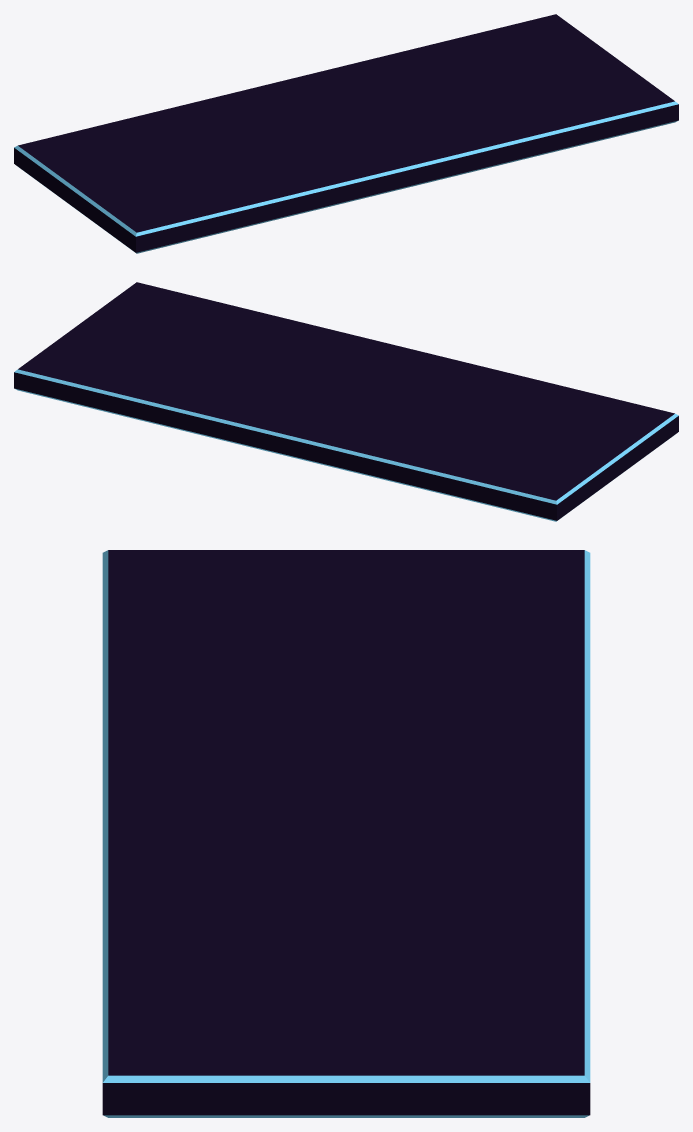
Rendered from Shipping Container_Platform.fbx.
3 renders of one model, top to bottom at view 1: azimuth 30°, elevation 25°; view 2: azimuth 150°, elevation 25°; view 3: azimuth 270°, elevation 25°, orthographic. The views are drawn at different scales.
Parts seen in each view (by area): view 1: Cube; view 2: Cube; view 3: Cube.
Part boxes in pixels (x1,y1,x2,y2): Cube: [14, 14, 678, 253]; Cube: [14, 282, 678, 521]; Cube: [102, 550, 590, 1117].
Bounding box in the file's own units: 515 × 19.11 × 200.
